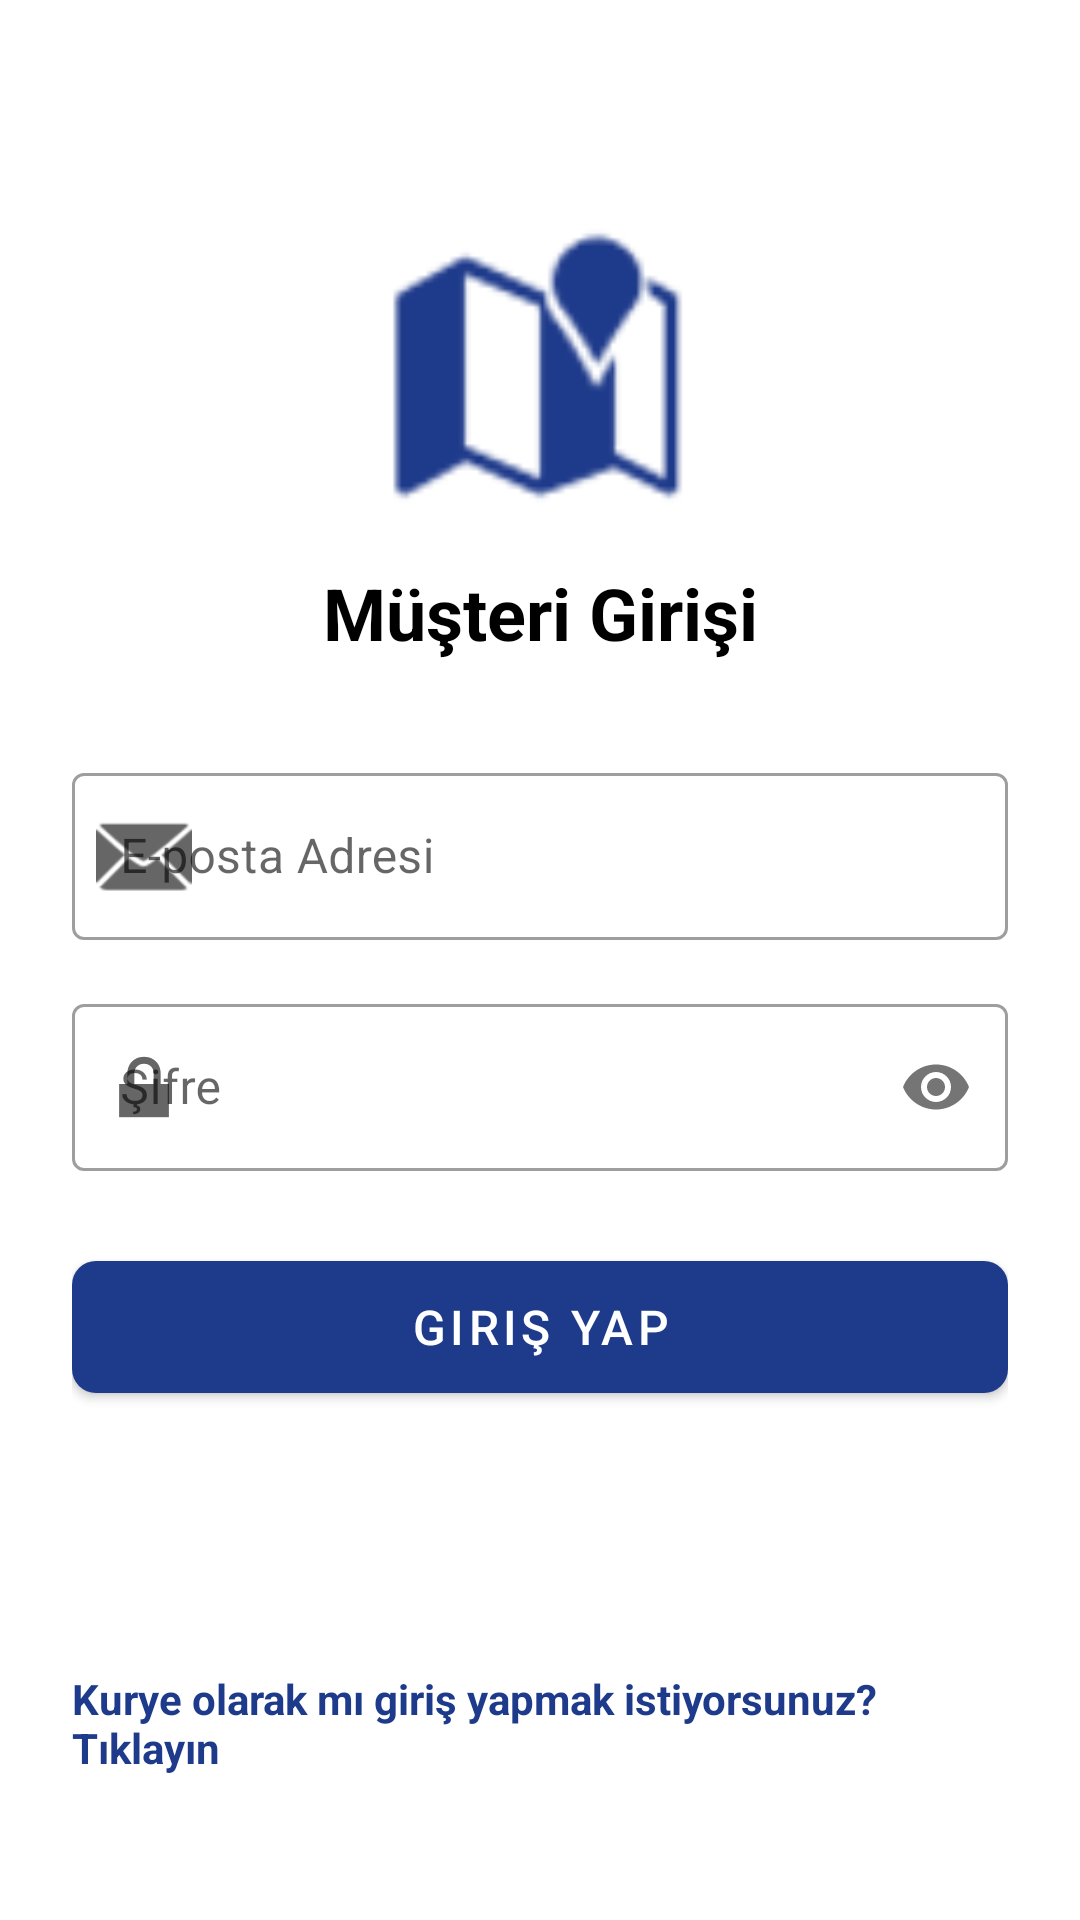

Screen size 1080 × 1920. Icon name, then its center in pixels as (x,y):
map: (537,366)
